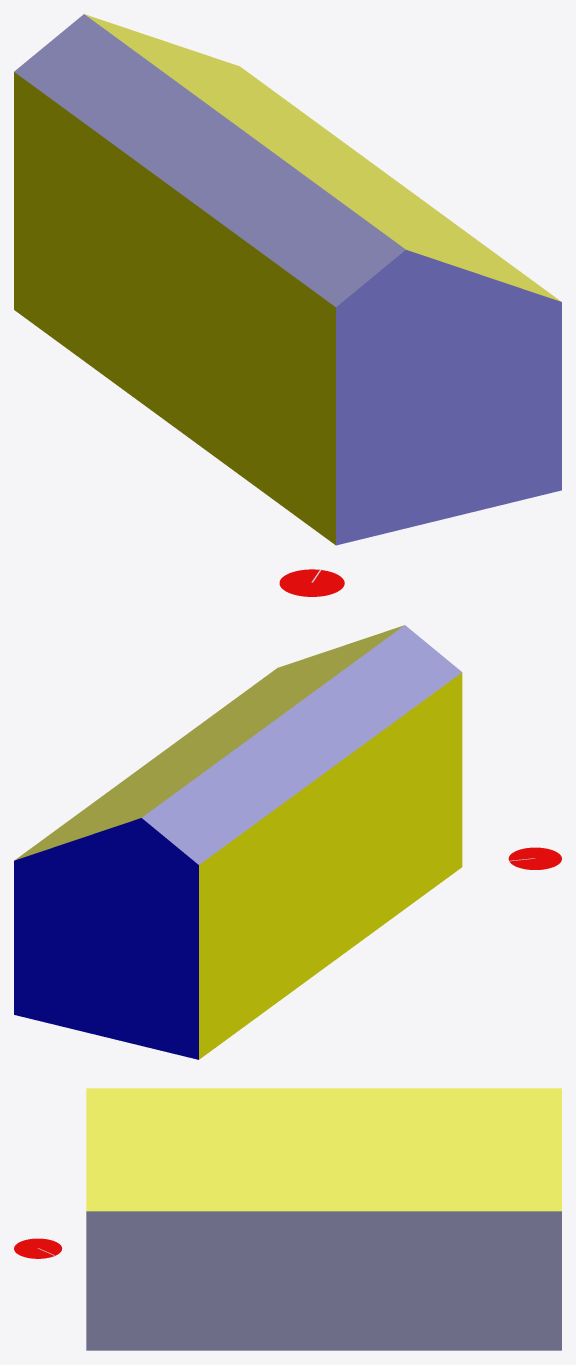
Rendered from result.glb.
The picture shows the model from 3 angles, top to bottom: view 1: azimuth 30°, elevation 25°; view 2: azimuth 150°, elevation 25°; view 3: azimuth 270°, elevation 25°; orthographic projection. The views are drawn at different scales.
Visible parts, largest first — view 1: d734cae1-5f22-4b0e-85fe-05435f4ccc23__undefined, 2d8987de-1db2-4617-8894-c028039cb50d__undefined, 7e22f5e3-cc54-4d13-8020-fbd7080a99a1__undefined, 4d154229-b40d-466c-af18-8a7b3bd43e3d__undefined, 486c06bb-6fe7-4594-a93e-cc1e98fc4b84__Circle; view 2: d734cae1-5f22-4b0e-85fe-05435f4ccc23__undefined, f5144ce1-11ac-41ac-ab04-cf629eab50af__undefined, 7e22f5e3-cc54-4d13-8020-fbd7080a99a1__undefined, 4d154229-b40d-466c-af18-8a7b3bd43e3d__undefined, 486c06bb-6fe7-4594-a93e-cc1e98fc4b84__Circle; view 3: baaa8b7a-1277-457d-9b19-216a0276a99e__undefined, 4d154229-b40d-466c-af18-8a7b3bd43e3d__undefined, 486c06bb-6fe7-4594-a93e-cc1e98fc4b84__Circle.
Part boxes in pixels (box(x1,y1,x2,y2)): d734cae1-5f22-4b0e-85fe-05435f4ccc23__undefined: box(14, 72, 335, 545); 2d8987de-1db2-4617-8894-c028039cb50d__undefined: box(336, 250, 561, 545); 7e22f5e3-cc54-4d13-8020-fbd7080a99a1__undefined: box(14, 14, 405, 306); 4d154229-b40d-466c-af18-8a7b3bd43e3d__undefined: box(84, 14, 560, 301); 486c06bb-6fe7-4594-a93e-cc1e98fc4b84__Circle: box(279, 569, 344, 596); d734cae1-5f22-4b0e-85fe-05435f4ccc23__undefined: box(199, 672, 462, 1059); f5144ce1-11ac-41ac-ab04-cf629eab50af__undefined: box(14, 818, 198, 1059); 7e22f5e3-cc54-4d13-8020-fbd7080a99a1__undefined: box(142, 625, 461, 864); 4d154229-b40d-466c-af18-8a7b3bd43e3d__undefined: box(14, 625, 404, 860); 486c06bb-6fe7-4594-a93e-cc1e98fc4b84__Circle: box(508, 847, 561, 869); baaa8b7a-1277-457d-9b19-216a0276a99e__undefined: box(86, 1211, 561, 1350); 4d154229-b40d-466c-af18-8a7b3bd43e3d__undefined: box(86, 1088, 561, 1211); 486c06bb-6fe7-4594-a93e-cc1e98fc4b84__Circle: box(14, 1238, 62, 1258).
Size of the model in its own units: 550 by 471 by 1137.
